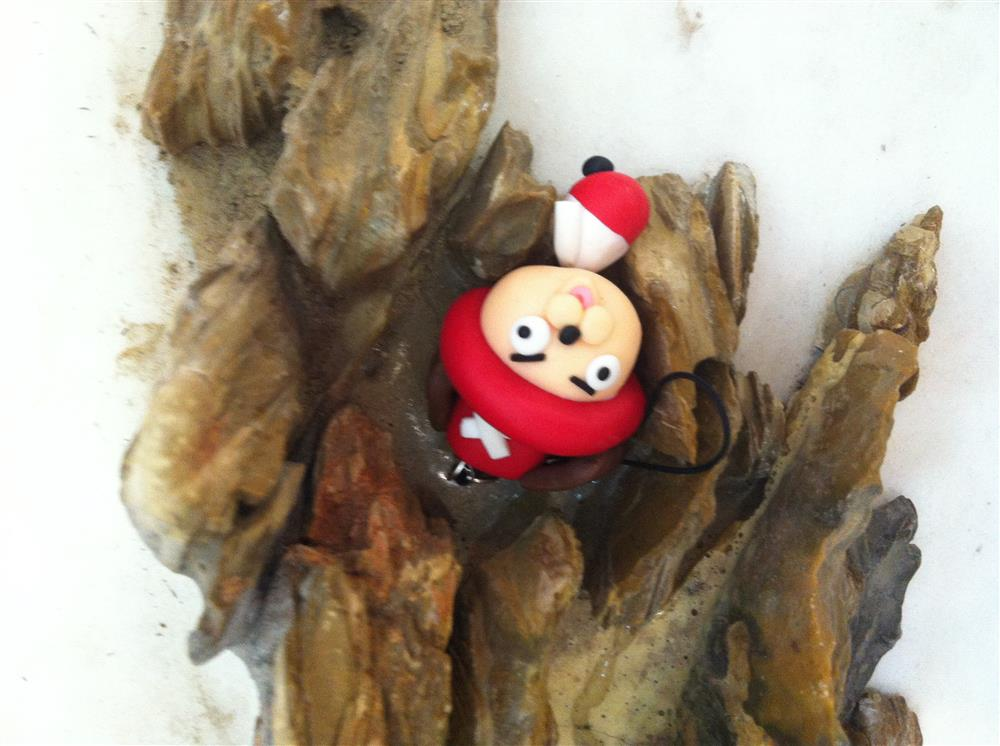Chopper: (442, 165, 655, 492)
